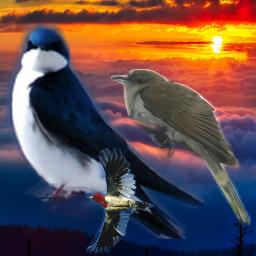Cuckoo: (111, 69, 251, 228)
Swallow: (6, 23, 204, 239)
Woodpecker: (86, 148, 154, 254)
